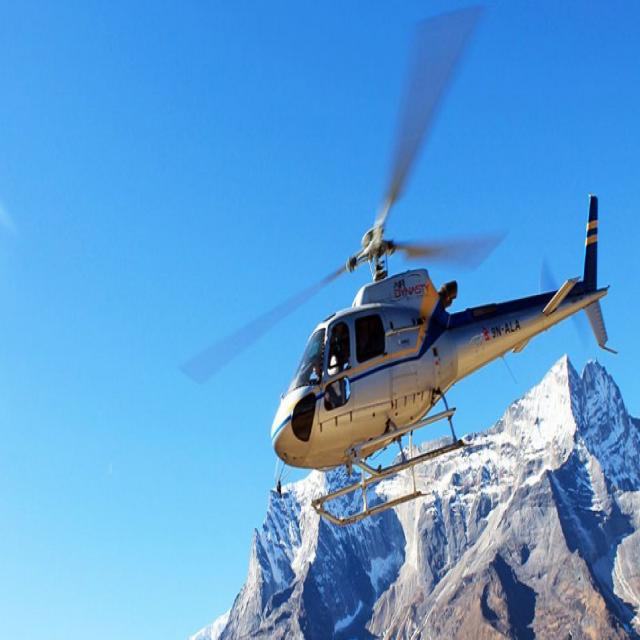helicopter: (179, 8, 621, 517)
